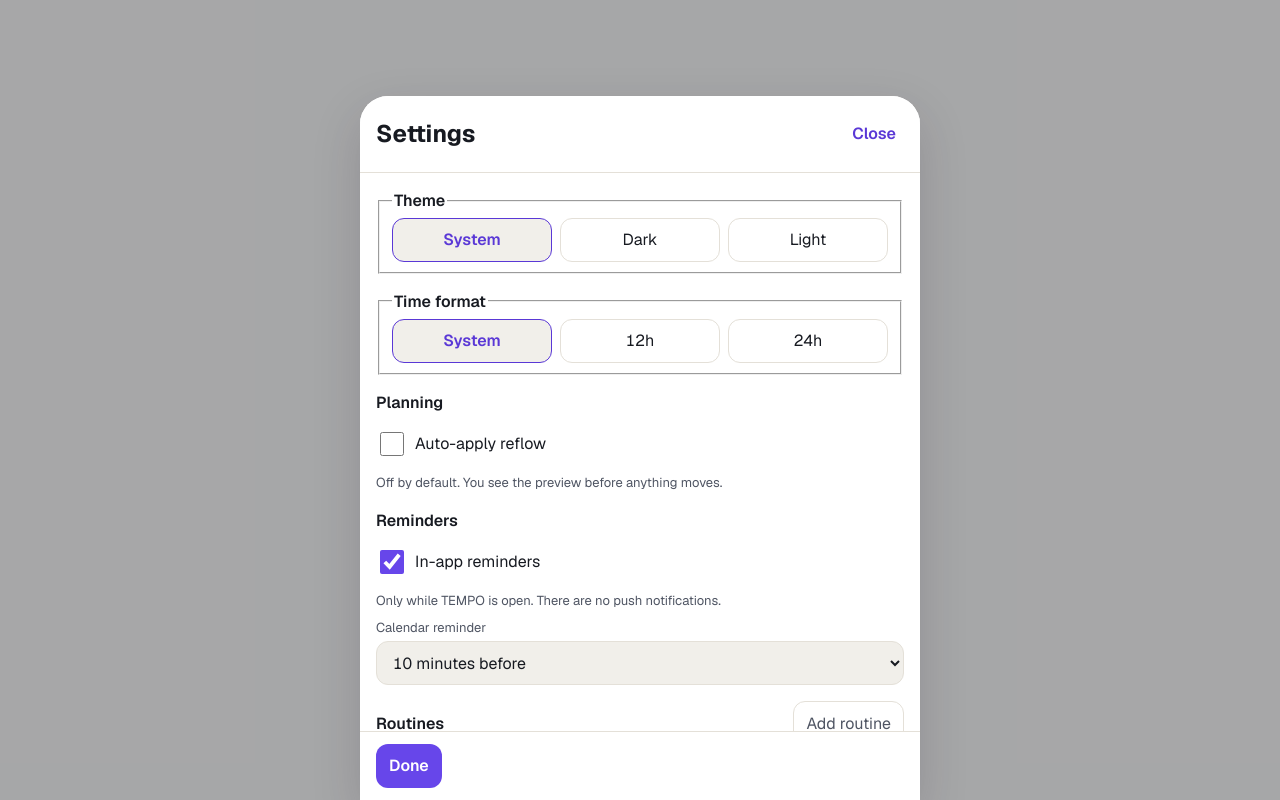
shows a plain error when a setting cannot be saved
This screenshot has width=1280, height=800.
Step 1. Click the button "Dark" → (640, 240), box [560, 218, 720, 262]
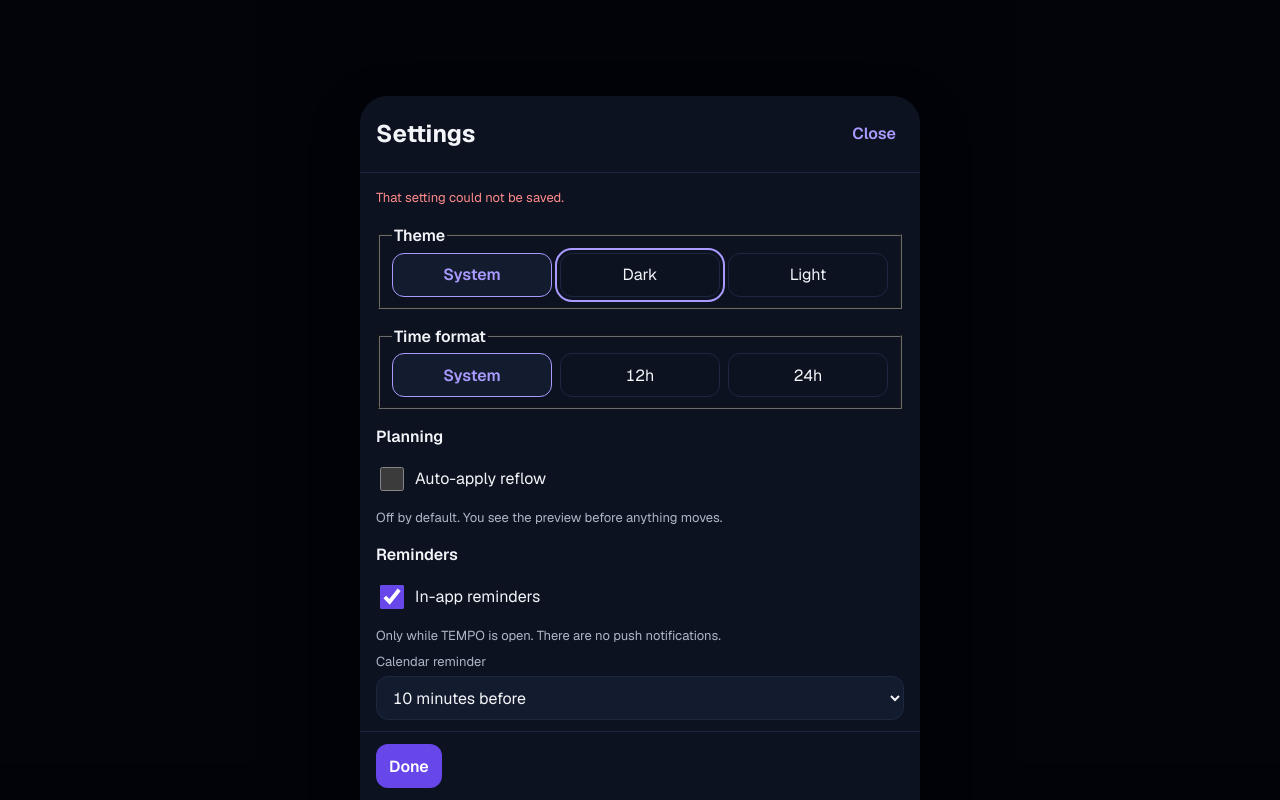
Now the message reads "That setting could not be saved.", box [376, 189, 564, 206]
